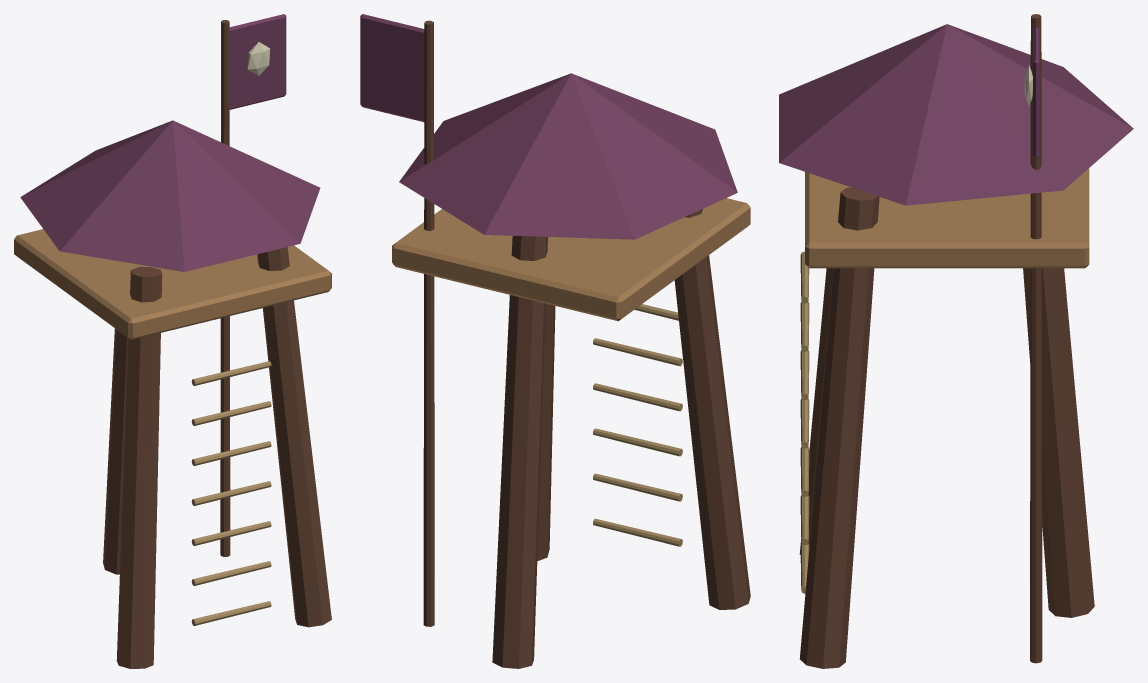
Rendered from goblin_tower.glb.
3 renders of one model, left to right at view 1: azimuth 30°, elevation 25°; view 2: azimuth 150°, elevation 25°; view 3: azimuth 270°, elevation 25°, orthographic. The views are drawn at different scales.
Parts seen in each view (by area): view 1: Geometry; view 2: Geometry; view 3: Geometry.
Boxes of the visible parts, box(x1,y1,x2,y2) form: Geometry: box(14, 14, 331, 668); Geometry: box(360, 14, 750, 668); Geometry: box(779, 14, 1133, 668).
Size of the model in its own units: 2.2 by 4.01 by 2.
